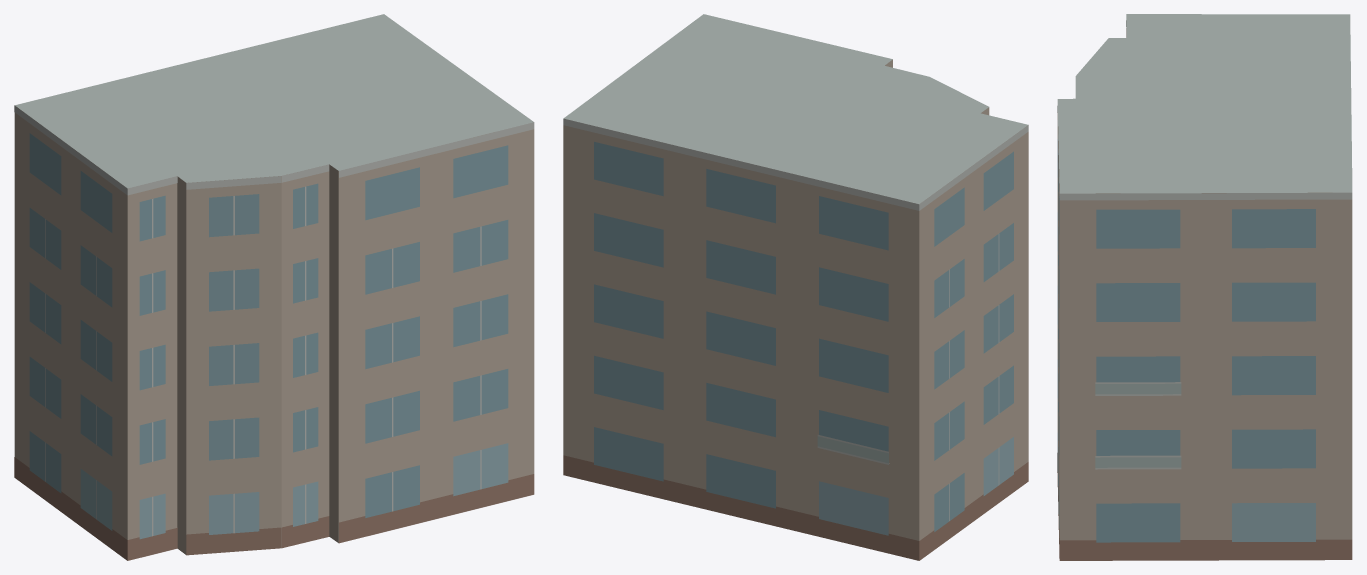
File: survey-upis-32899439.glb
3 views of the same model, side by side, from view 1: azimuth 30°, elevation 25°; view 2: azimuth 150°, elevation 25°; view 3: azimuth 270°, elevation 25° (orthographic). The views are drawn at different scales.
Visible parts, largest first — view 1: survey-upis-32899439.tmp; view 2: survey-upis-32899439.tmp; view 3: survey-upis-32899439.tmp.
Boxes of the visible parts, <box> form: survey-upis-32899439.tmp: <box>14,14,534,560</box>; survey-upis-32899439.tmp: <box>563,14,1028,560</box>; survey-upis-32899439.tmp: <box>1057,14,1352,560</box>.
Size of the model in its own units: 13.72 by 13.05 by 9.51.
